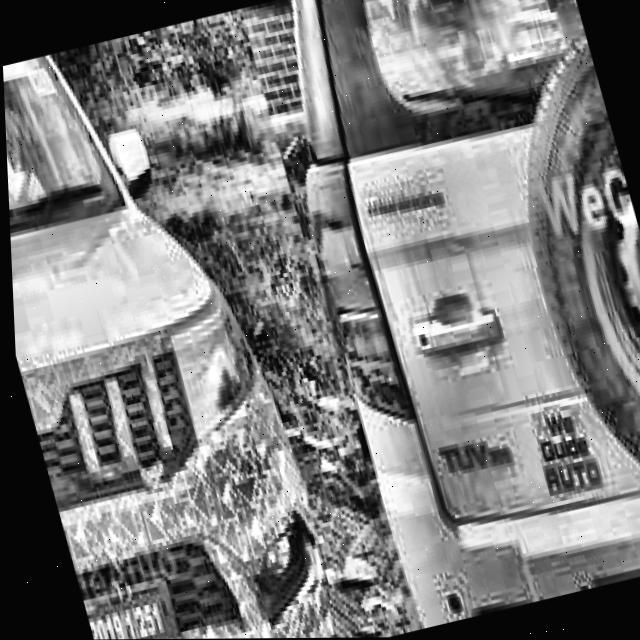light_vehicle: (248, 0, 640, 631)
